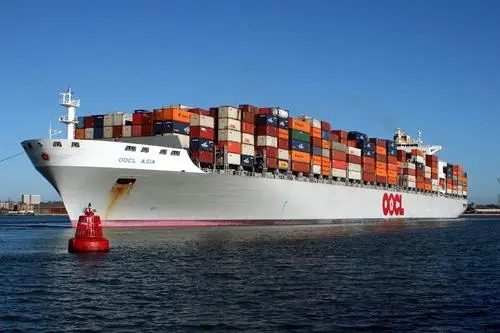Cargoship: (18, 82, 471, 225)
